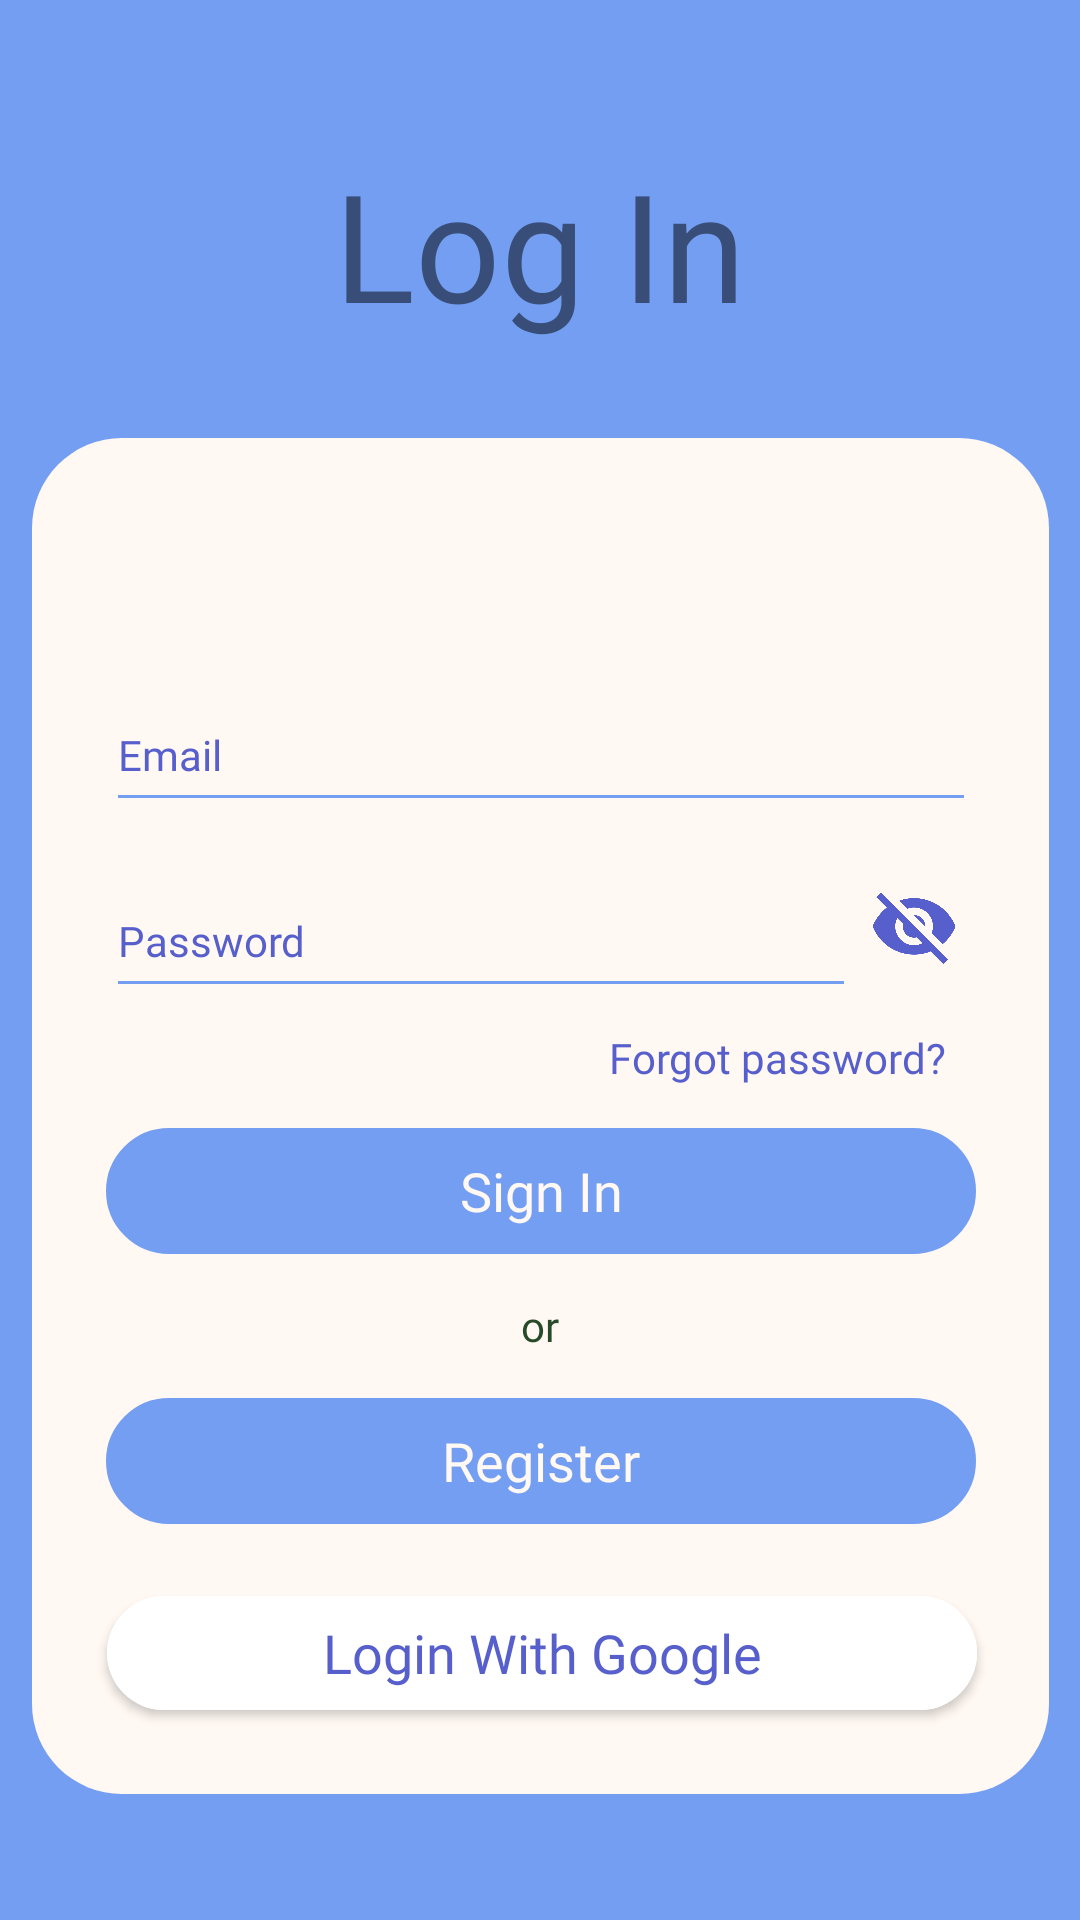

Screen size 1080×1920. Icon name, then its center in pixels as (x=x, y=y):
invisible: (x=914, y=928)
